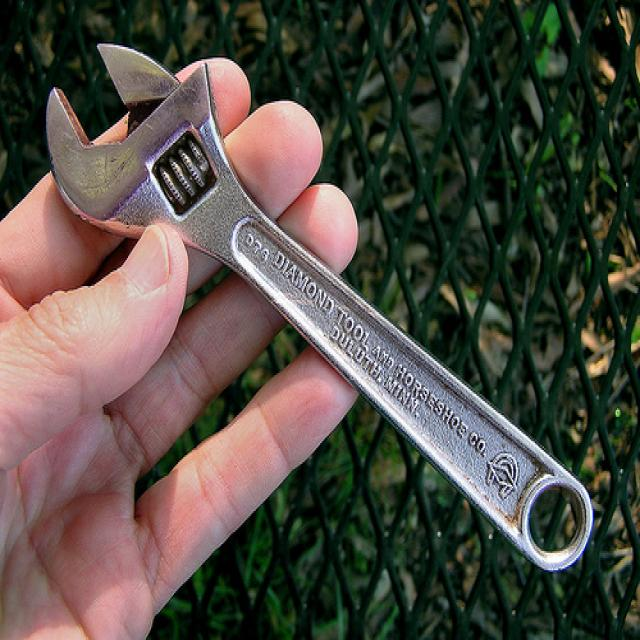wrench: (16, 25, 640, 580)
